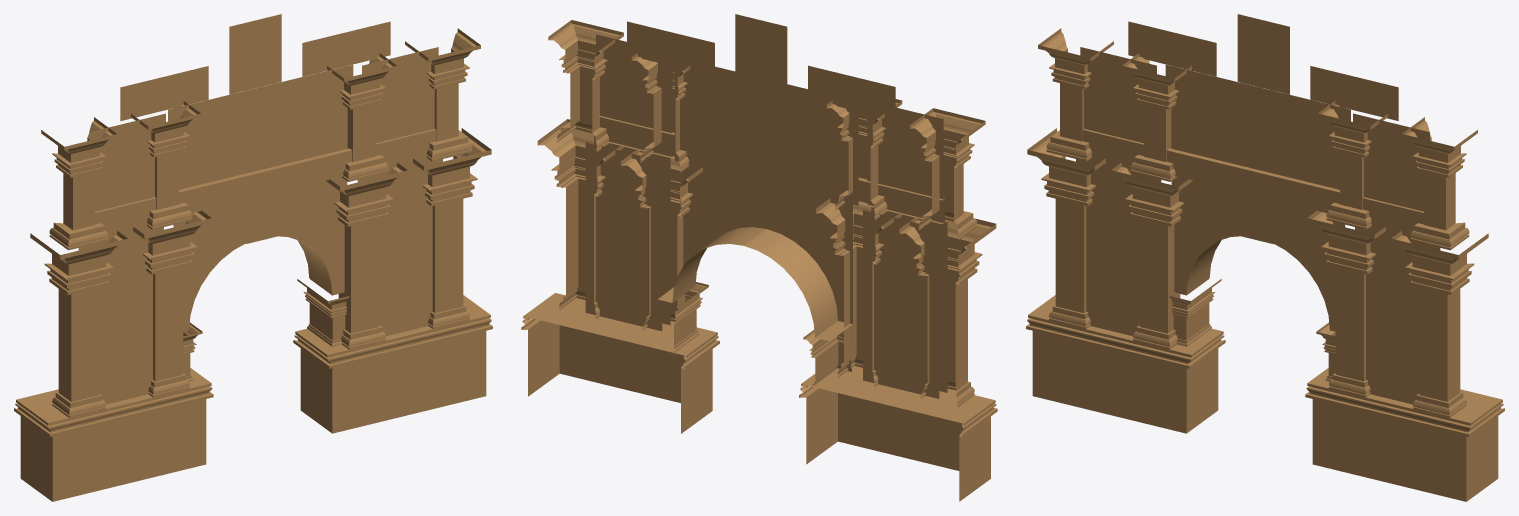
Rendered from Arch.fbx.
The picture shows the model from 3 angles, left to right: view 1: azimuth 30°, elevation 25°; view 2: azimuth 150°, elevation 25°; view 3: azimuth 330°, elevation 25°; orthographic projection.
Visible parts, largest first — view 1: polySurface1, polySurface16, polySurface7, polySurface22, pCube2, polySurface20, pCube8, polySurface4, pCube7, pCube3, pCube4, polySurface21 (+14 smaller); view 2: polySurface1, polySurface16, polySurface17, polySurface2, pCylinder1, polySurface20, polySurface4, pCylinder2, polySurface21, polySurface3, pCube2, pCube7 (+14 smaller); view 3: polySurface16, polySurface1, polySurface22, polySurface7, pCube7, polySurface4, pCube3, polySurface20, pCube2, pCube8, pCube10, pCylinder1 (+14 smaller).
Part boxes in pixels (<box>): polySurface1: <box>14,368,213,501</box>; polySurface16: <box>293,295,492,433</box>; polySurface7: <box>87,224,163,404</box>; polySurface22: <box>366,156,442,336</box>; pCube2: <box>30,231,127,417</box>; polySurface20: <box>261,64,353,169</box>; pCube8: <box>326,163,407,349</box>; polySurface4: <box>168,87,260,189</box>; pCube7: <box>413,128,491,329</box>; pCube3: <box>133,210,211,397</box>; pCube4: <box>41,117,117,250</box>; polySurface21: <box>362,47,438,143</box>; polySurface1: <box>799,366,997,501</box>; polySurface16: <box>521,293,719,433</box>; polySurface17: <box>585,142,662,331</box>; polySurface2: <box>863,210,939,398</box>; pCylinder1: <box>744,183,852,341</box>; polySurface20: <box>674,66,766,183</box>; polySurface4: <box>766,84,858,205</box>; pCylinder2: <box>658,164,766,302</box>; polySurface21: <box>596,34,672,156</box>; polySurface3: <box>867,107,943,223</box>; pCube2: <box>899,216,996,406</box>; pCube7: <box>537,119,623,318</box>; polySurface16: <box>1305,368,1504,501</box>; polySurface1: <box>1026,295,1225,433</box>; polySurface22: <box>1355,224,1431,404</box>; polySurface7: <box>1076,156,1152,336</box>; pCube7: <box>1391,231,1488,417</box>; polySurface4: <box>1165,64,1258,169</box>; pCube3: <box>1111,163,1192,349</box>; polySurface20: <box>1258,87,1350,189</box>; pCube2: <box>1027,128,1105,329</box>; pCube8: <box>1307,210,1385,397</box>; pCube10: <box>1401,117,1477,250</box>; pCylinder1: <box>1171,177,1239,295</box>.
Size of the model in its own units: 34.23 by 30.89 by 5.51.
